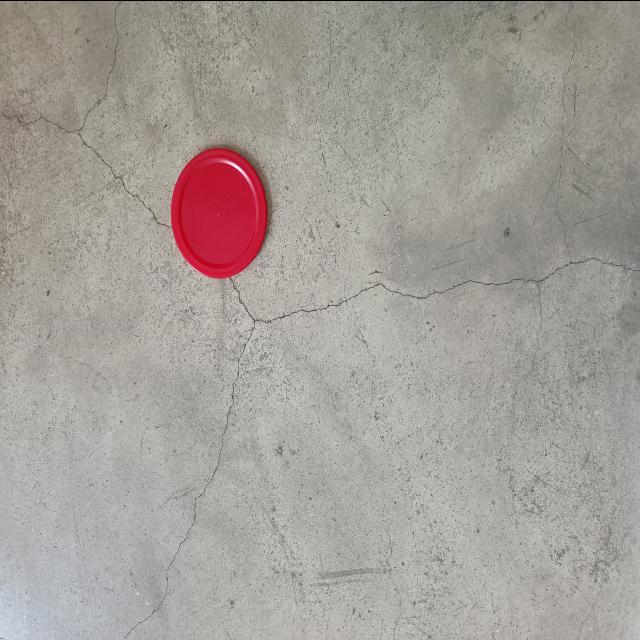chip: (170, 145, 270, 282)
